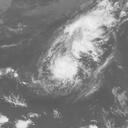cyclone: (49, 26, 86, 82)
